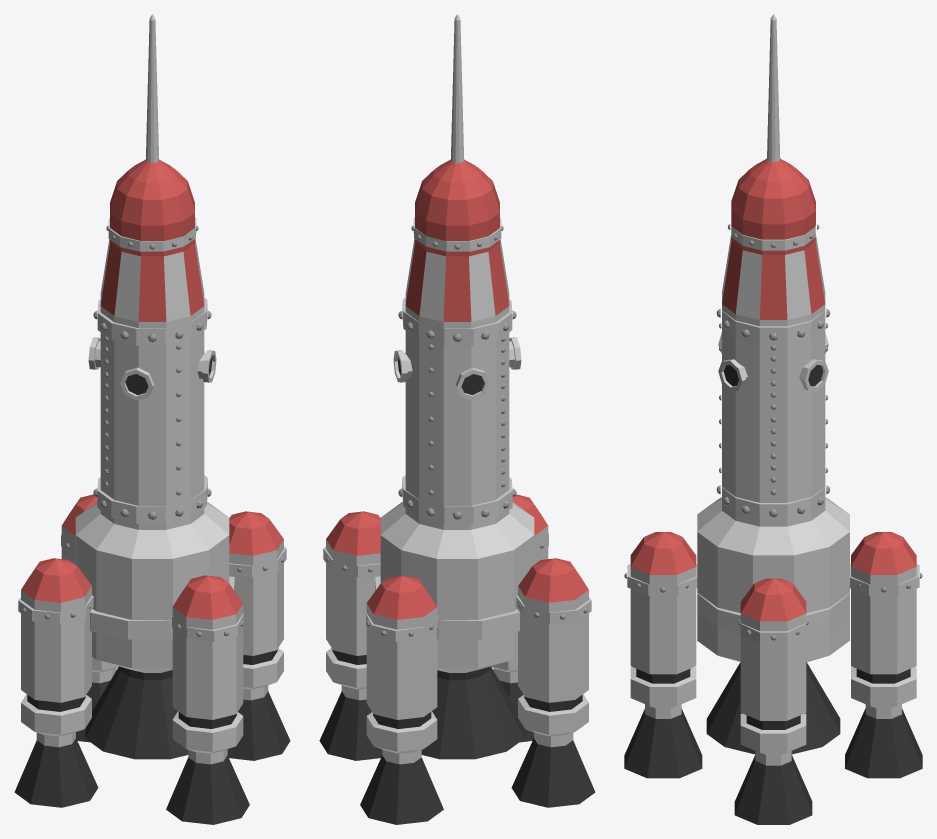
The model's file is Space rocket.glb.
3 views of the same model, side by side, from view 1: azimuth 30°, elevation 25°; view 2: azimuth 150°, elevation 25°; view 3: azimuth 270°, elevation 25° (orthographic).
Parts seen in each view (by area): view 1: Cylinder; view 2: Cylinder; view 3: Cylinder.
Boxes of the visible parts, x1=… form: Cylinder: x1=14, y1=14, x2=290, y2=824; Cylinder: x1=319, y1=14, x2=595, y2=824; Cylinder: x1=624, y1=14, x2=922, y2=824.
Size of the model in its own units: 3.99 by 11.04 by 3.99.
